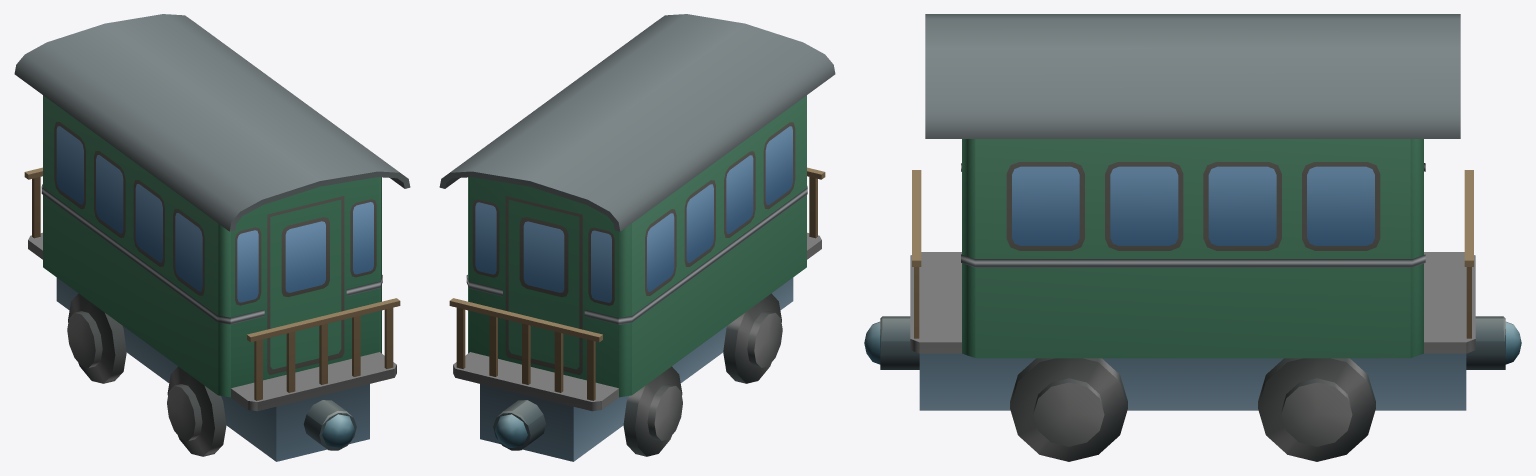
Rendered from Carriage_Pass_C.fbx.
3 views of the same model, side by side, from view 1: azimuth 30°, elevation 25°; view 2: azimuth 150°, elevation 25°; view 3: azimuth 270°, elevation 25° (orthographic). The views are drawn at different scales.
Visible parts, largest first — view 1: Carriage_Pass_C; view 2: Carriage_Pass_C; view 3: Carriage_Pass_C.
Part boxes in pixels (x1=…): Carriage_Pass_C: x1=14, y1=14, x2=410, y2=461; Carriage_Pass_C: x1=439, y1=14, x2=835, y2=461; Carriage_Pass_C: x1=864, y1=14, x2=1521, y2=461.
Bounding box in the file's own units: 307 × 483 × 778.
